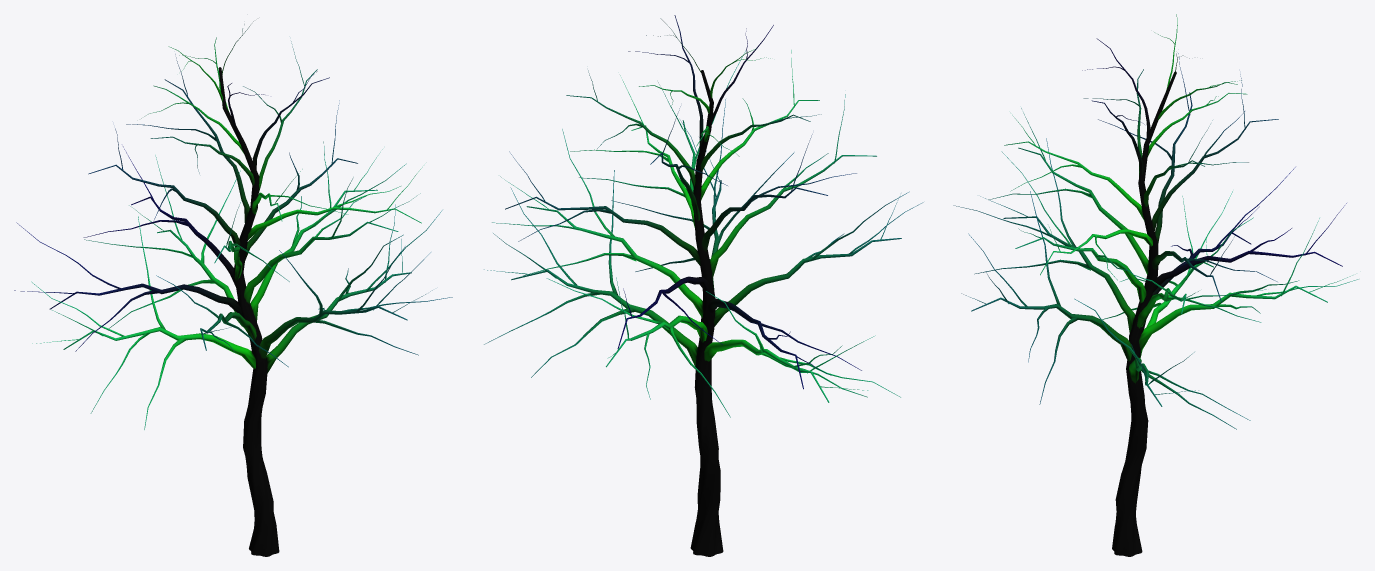
The model's file is SM_WLTree_013.FBX.
The picture shows the model from 3 angles, left to right: view 1: azimuth 30°, elevation 25°; view 2: azimuth 150°, elevation 25°; view 3: azimuth 270°, elevation 25°; orthographic projection. The views are drawn at different scales.
Visible parts, largest first — view 1: SM_WLTree_013_LOD0; view 2: SM_WLTree_013_LOD0; view 3: SM_WLTree_013_LOD0.
Boxes of the visible parts, x1,y1,x2,y2 form: SM_WLTree_013_LOD0: [14, 21, 452, 556]; SM_WLTree_013_LOD0: [484, 15, 923, 556]; SM_WLTree_013_LOD0: [953, 14, 1358, 556].
Size of what is drawn, in the model's own units: 521 by 492 by 681.
